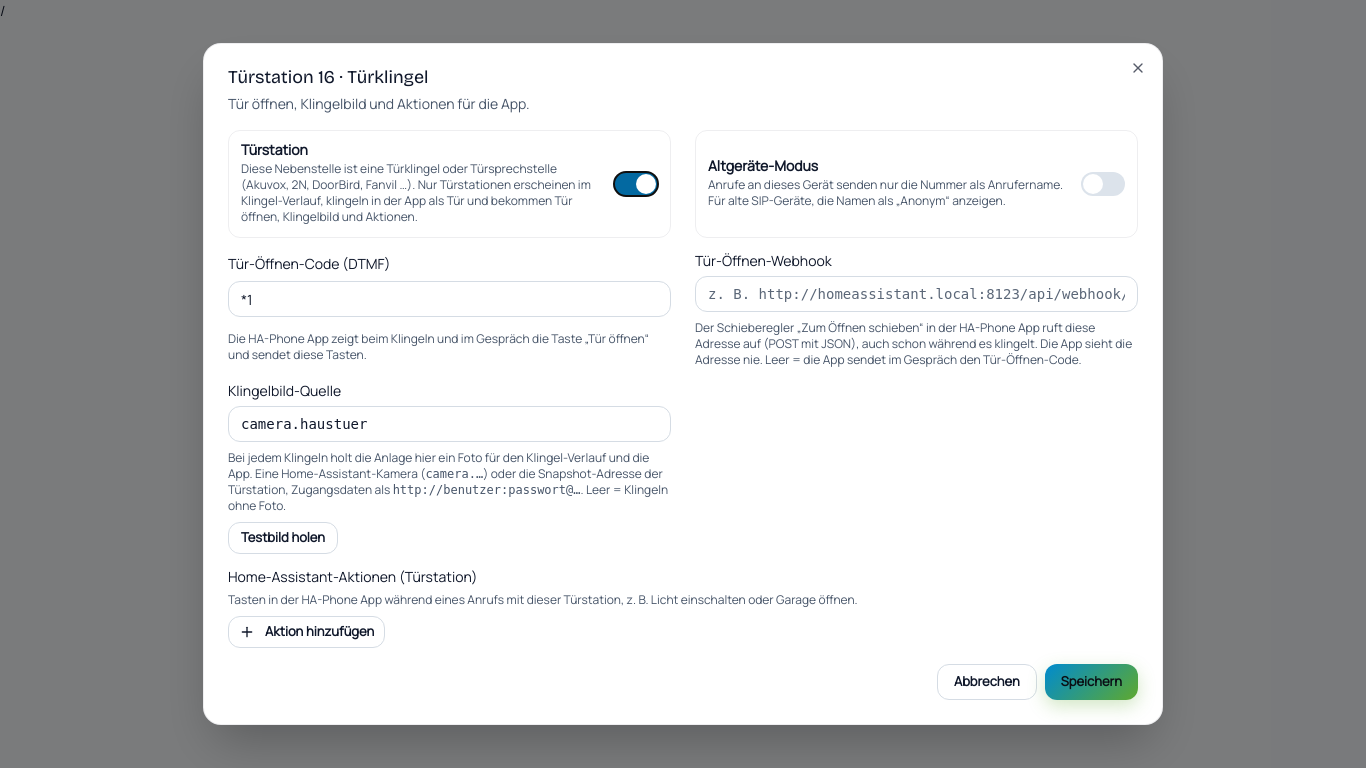
Test: DoorSettingsDialog › zeigt Fehler und speichert nicht bei falscher Adresse
In the field labelled "Tür-Öffnen-Webhook": [916, 294] box left=695, top=276, right=1138, bottom=312, type "ftp://x"
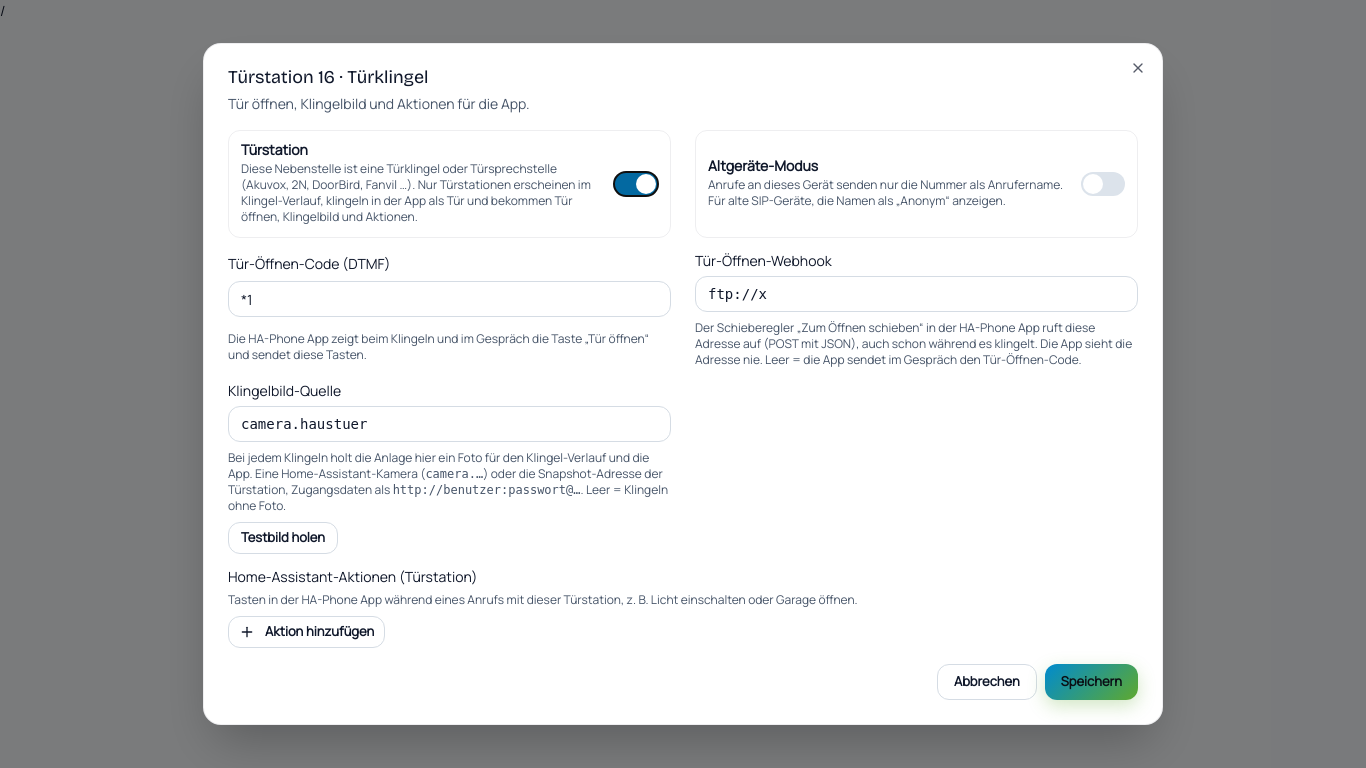
Click the button "Speichern": [1091, 682] box left=1045, top=664, right=1138, bottom=700
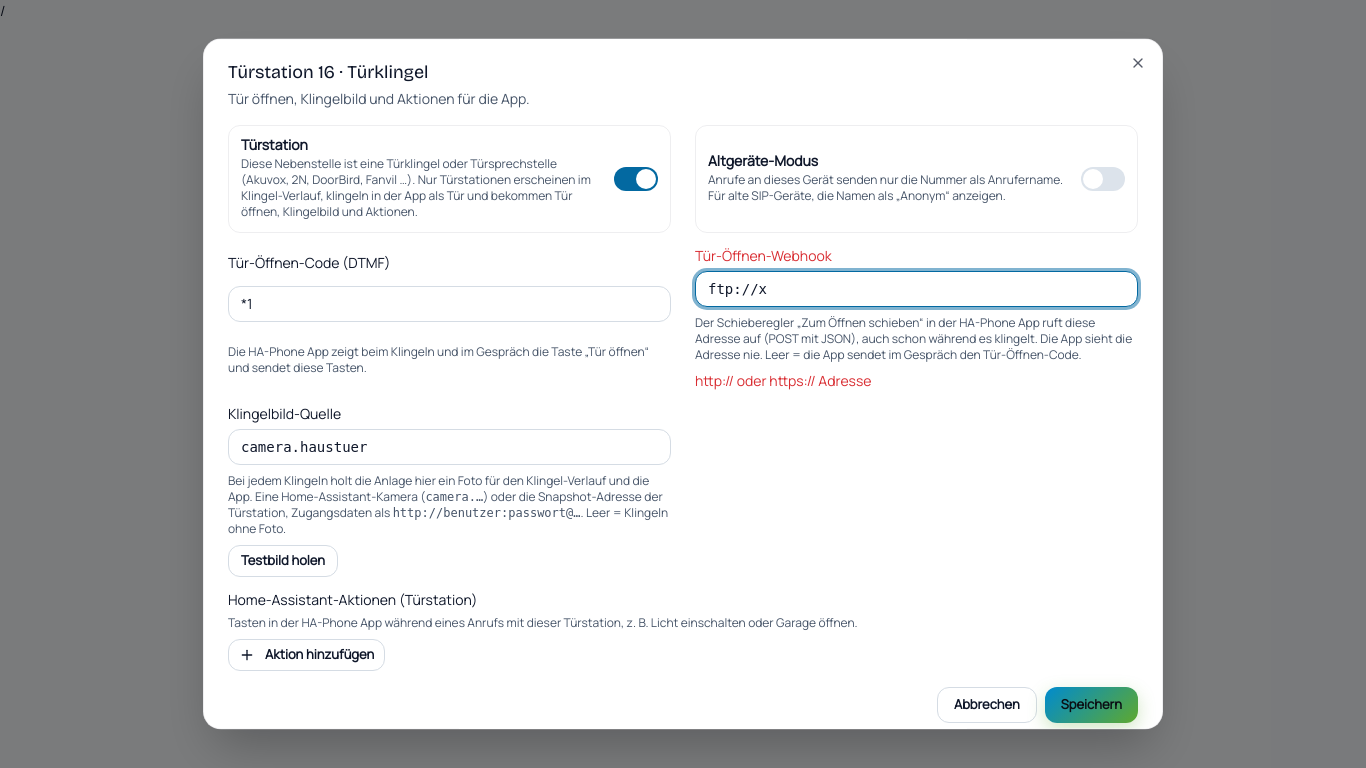
Now the text "http:// oder https:// Adresse" is shown, box left=695, top=371, right=872, bottom=390
